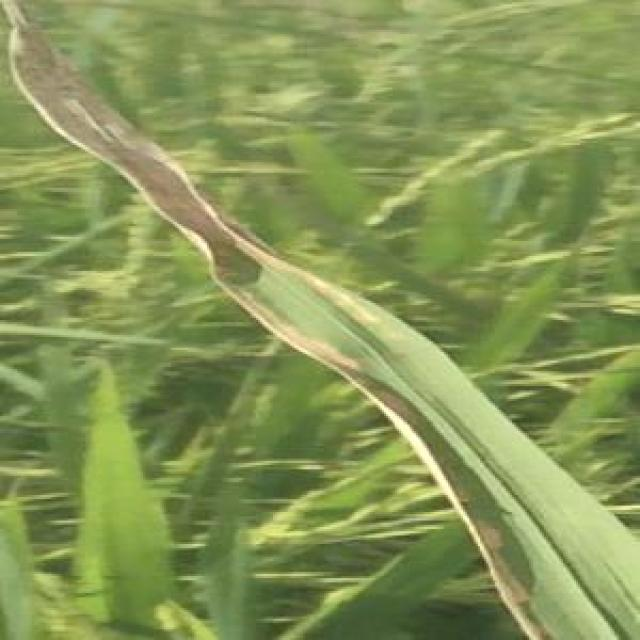Bacterial_Leaf_Blight: (213, 214, 414, 420)
